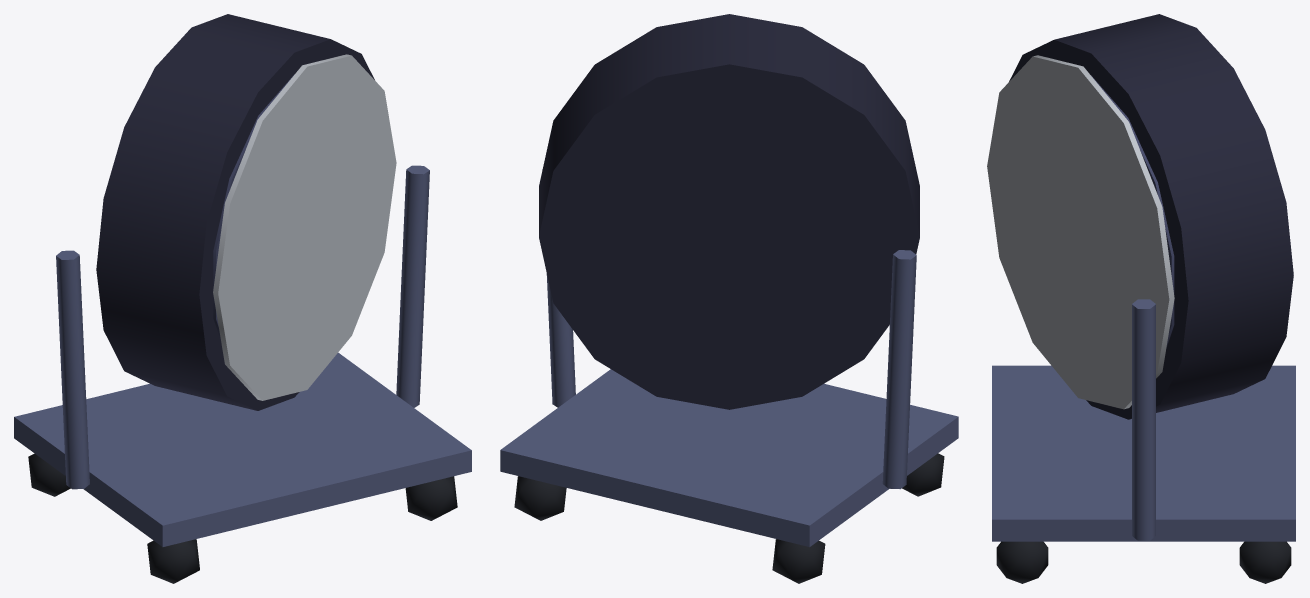
Rendered from station_transport_ausstattung_1_3.glb.
3 renders of one model, left to right at view 1: azimuth 30°, elevation 25°; view 2: azimuth 150°, elevation 25°; view 3: azimuth 270°, elevation 25°, orthographic. The views are drawn at different scales.
Parts seen in each view (by area): view 1: station_transport_ausstattung_1_3; view 2: station_transport_ausstattung_1_3; view 3: station_transport_ausstattung_1_3.
Part boxes in pixels (x1,y1,x2,y2): station_transport_ausstattung_1_3: [14, 14, 471, 583]; station_transport_ausstattung_1_3: [500, 14, 958, 583]; station_transport_ausstattung_1_3: [987, 14, 1295, 583].
Bounding box in the file's own units: 0.7146 × 0.87 × 0.5083.
